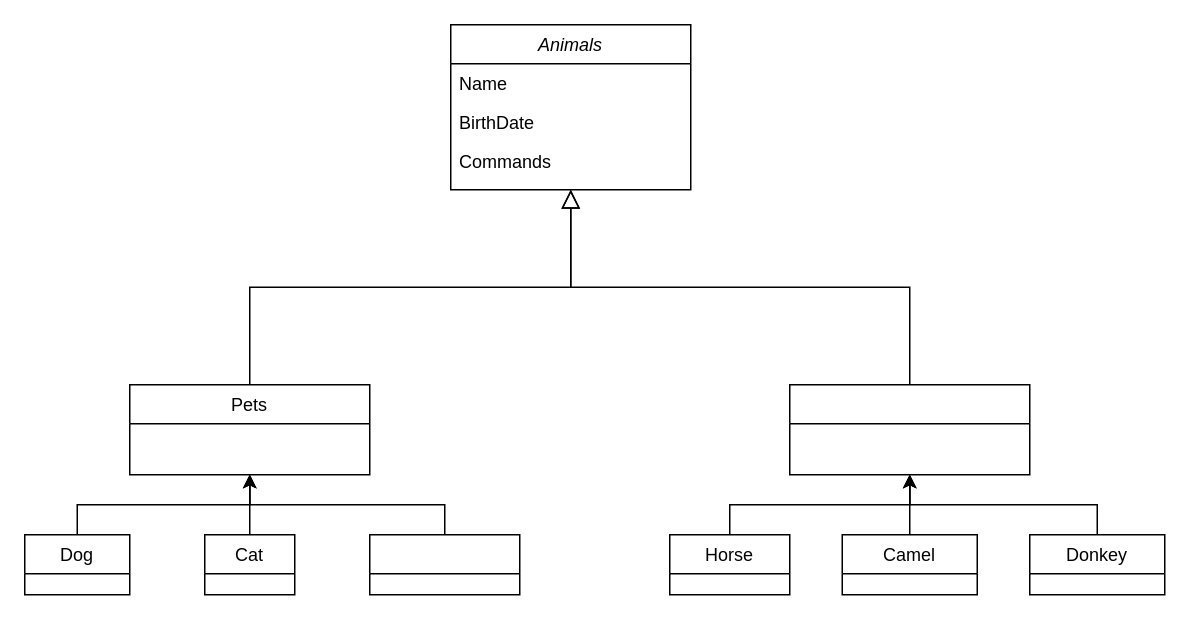
The diagram is 1190 pixels wide and 620 high, and some of its shapes have lost their labels. Here are the shapes that lost their labels. From the top down, the centre of each, then its label:
pixel 909 429: Pack Animals
pixel 444 564: Hamster
